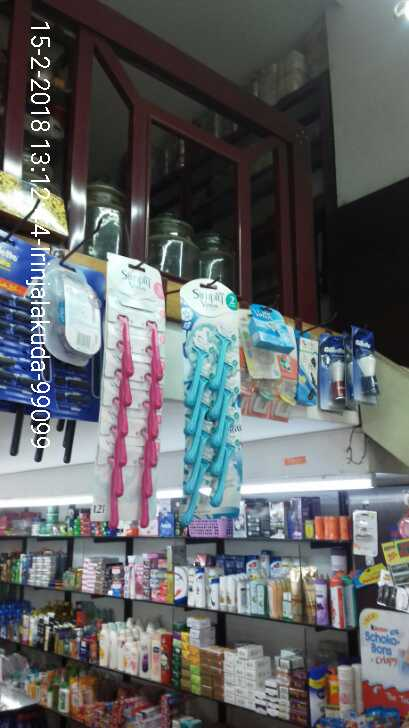B: (77, 451, 121, 498)
